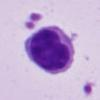L: (24, 24, 75, 74)
